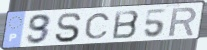5: (142, 7, 166, 39)
9: (25, 12, 54, 45)
B: (110, 9, 141, 41)
C: (83, 12, 112, 40)
R: (167, 6, 199, 38)
S: (53, 12, 83, 44)
